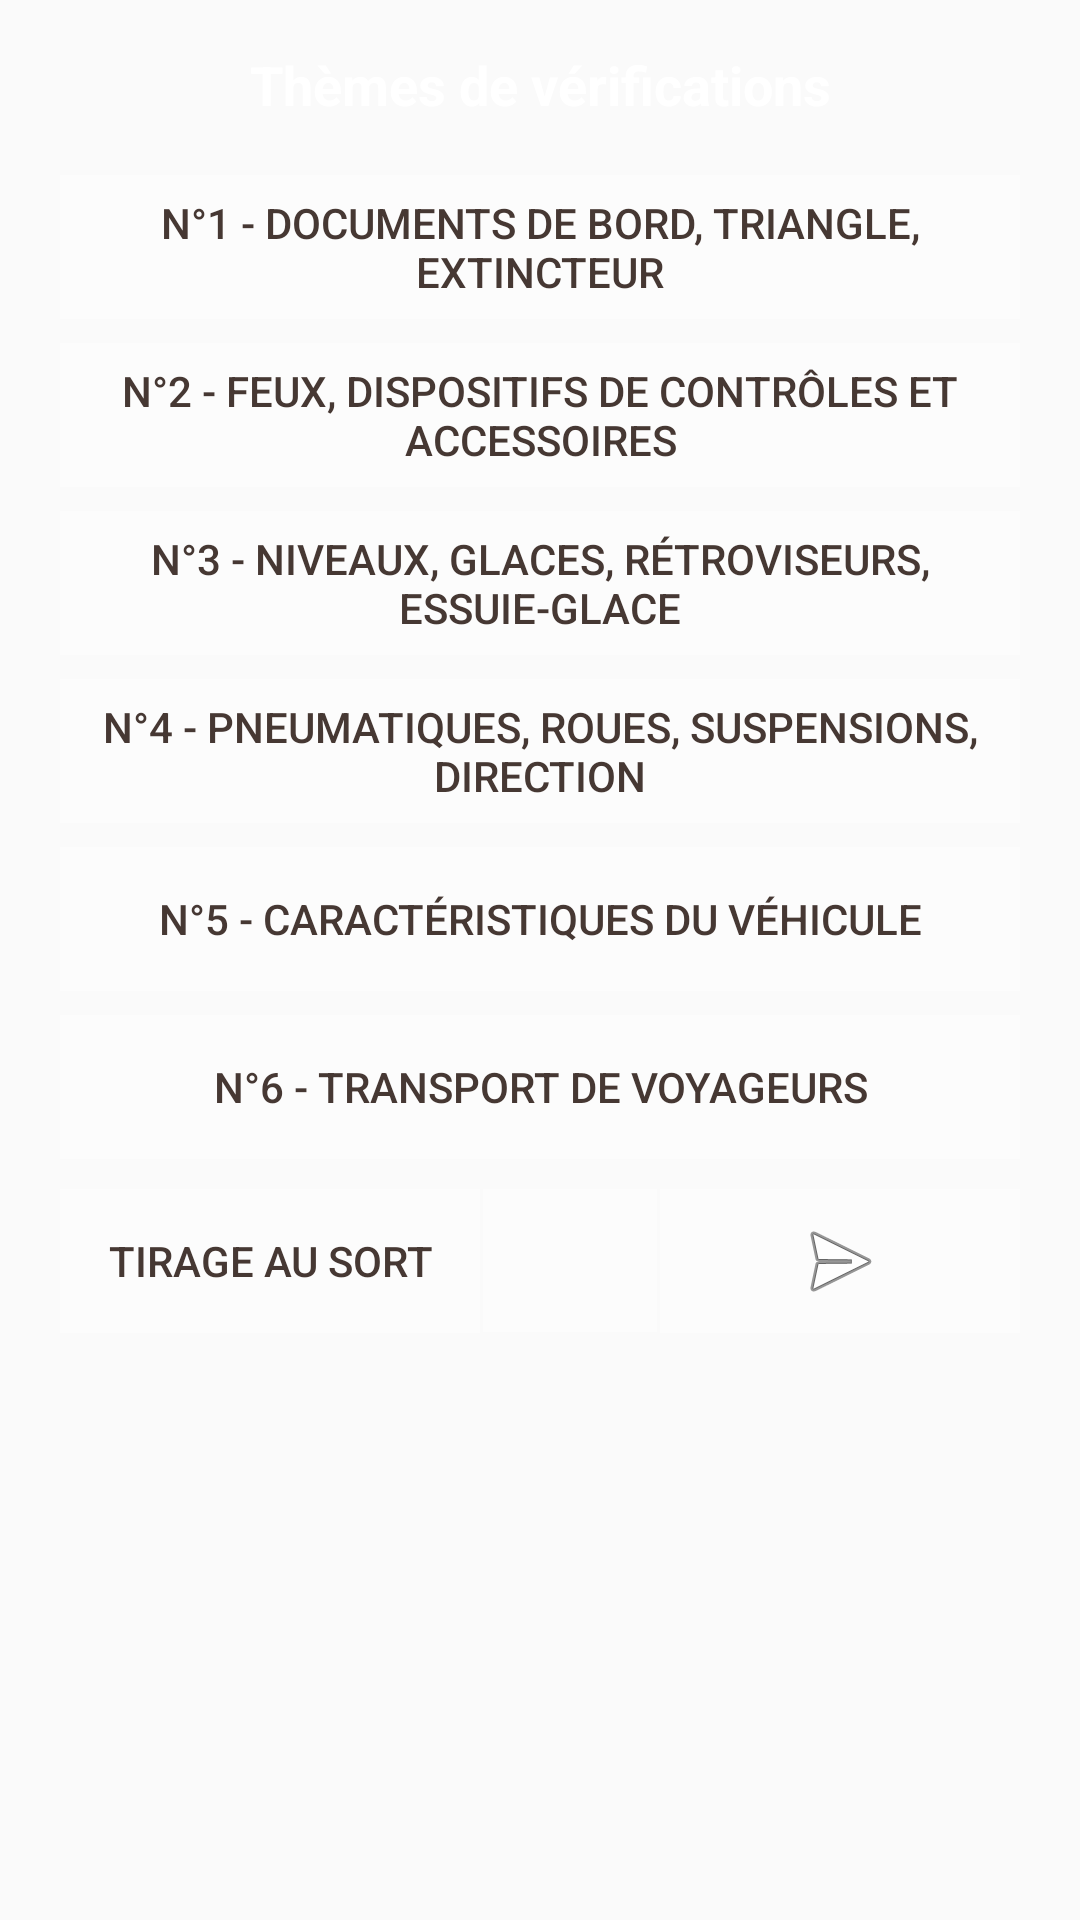

Named icons in this screenshot (1080*1920) and their centers, point (x, y):
send: point (841, 1261)
